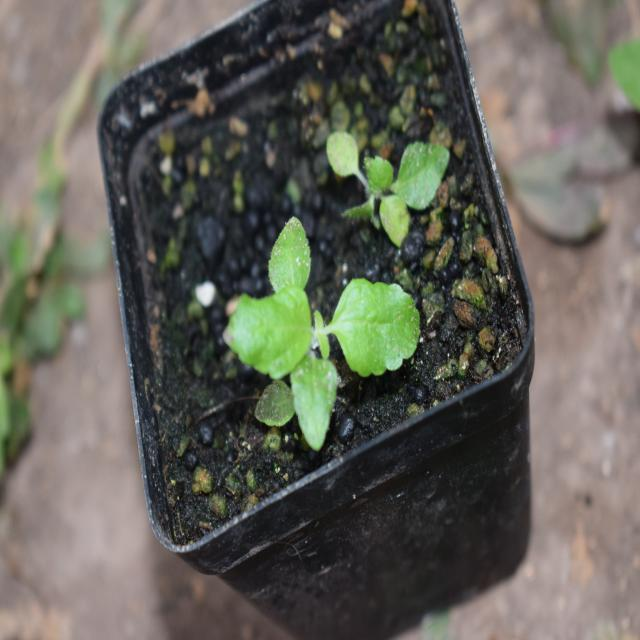billygoat_weed: (224, 219, 406, 445)
